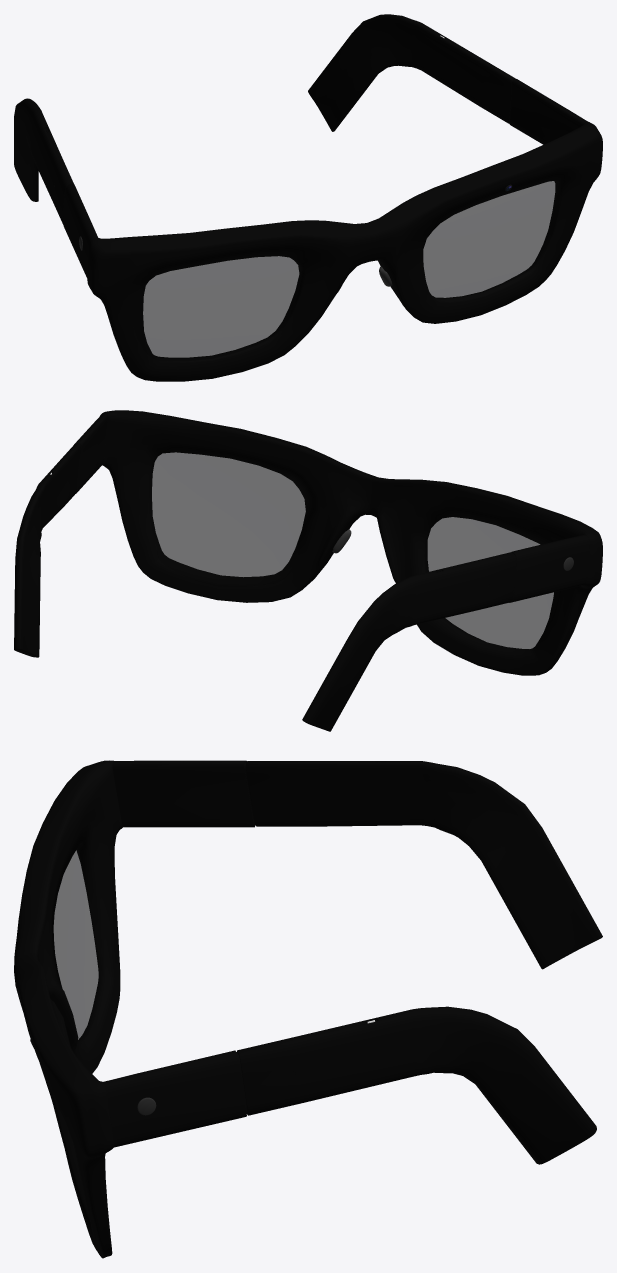
The model's file is meta_orion_ar_glasses.glb.
3 renders of one model, top to bottom at view 1: azimuth 30°, elevation 25°; view 2: azimuth 150°, elevation 25°; view 3: azimuth 270°, elevation 25°, orthographic. The views are drawn at different scales.
Parts seen in each view (by area): view 1: Object_5, Object_7; view 2: Object_5, Object_7; view 3: Object_5, Object_7.
Boxes of the visible parts, x1,y1,x2,y2 form: Object_5: [14, 14, 602, 381]; Object_7: [131, 181, 560, 361]; Object_5: [14, 410, 602, 731]; Object_7: [149, 452, 553, 648]; Object_5: [14, 760, 602, 1258]; Object_7: [52, 849, 101, 1197].
Bounding box in the file's own units: 223 × 80.32 × 166.
Materials: 6 (1 with a texture image).
